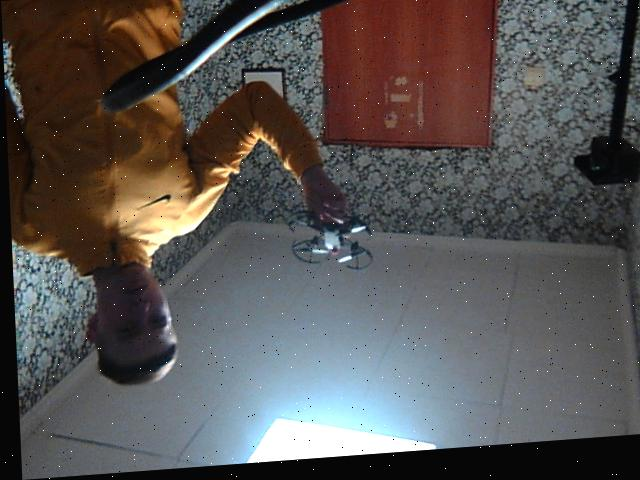drone: (270, 200, 378, 289)
